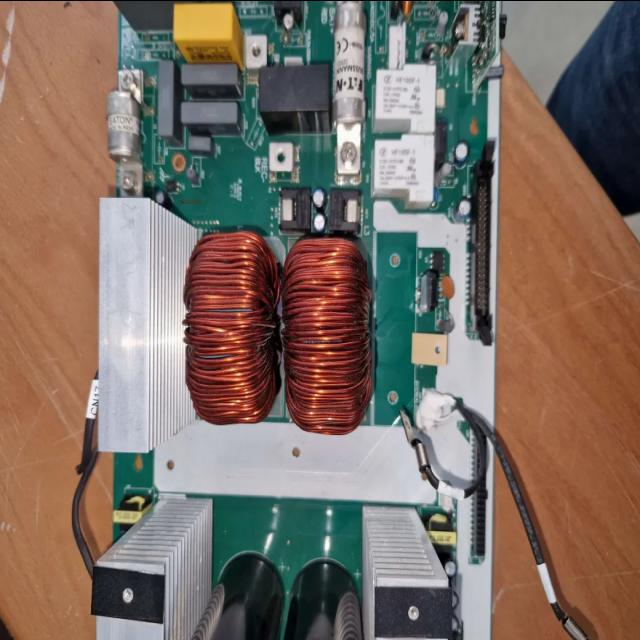A: (181, 230, 282, 426), (282, 236, 372, 434)
B: (336, 0, 366, 173), (106, 68, 144, 194)
Wire: (464, 407, 566, 620), (425, 400, 486, 499), (72, 445, 98, 579), (76, 368, 99, 474)
